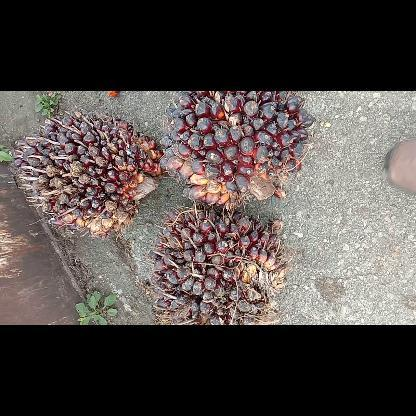TBS mentah: (10, 110, 160, 236), (159, 91, 315, 205), (152, 206, 288, 324)
